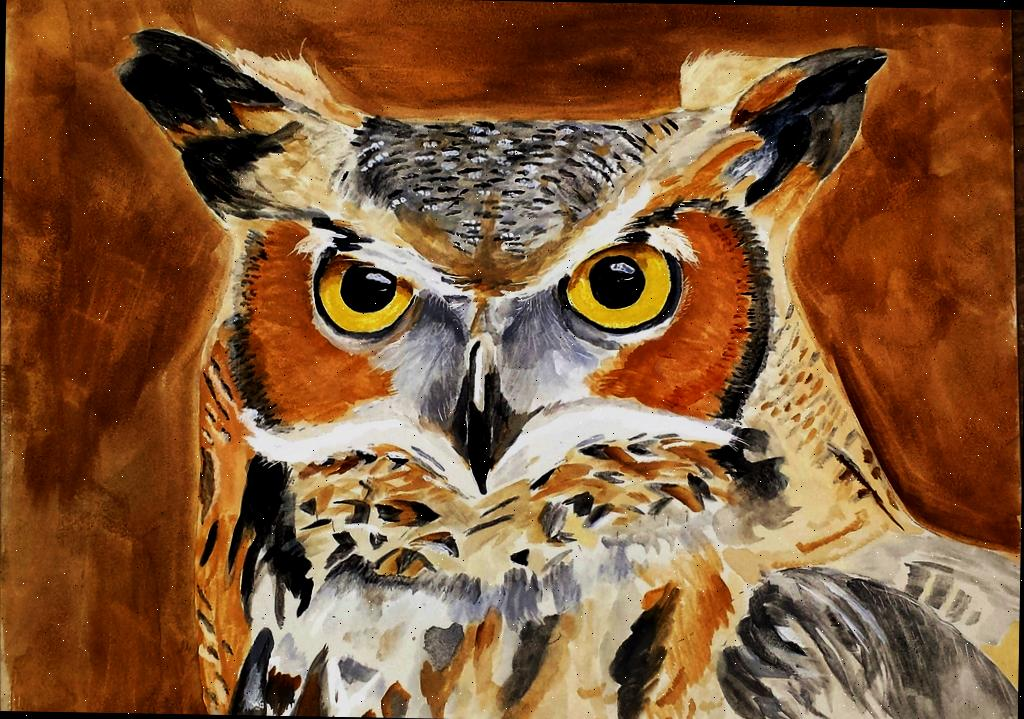Owl: (102, 28, 1024, 719)
